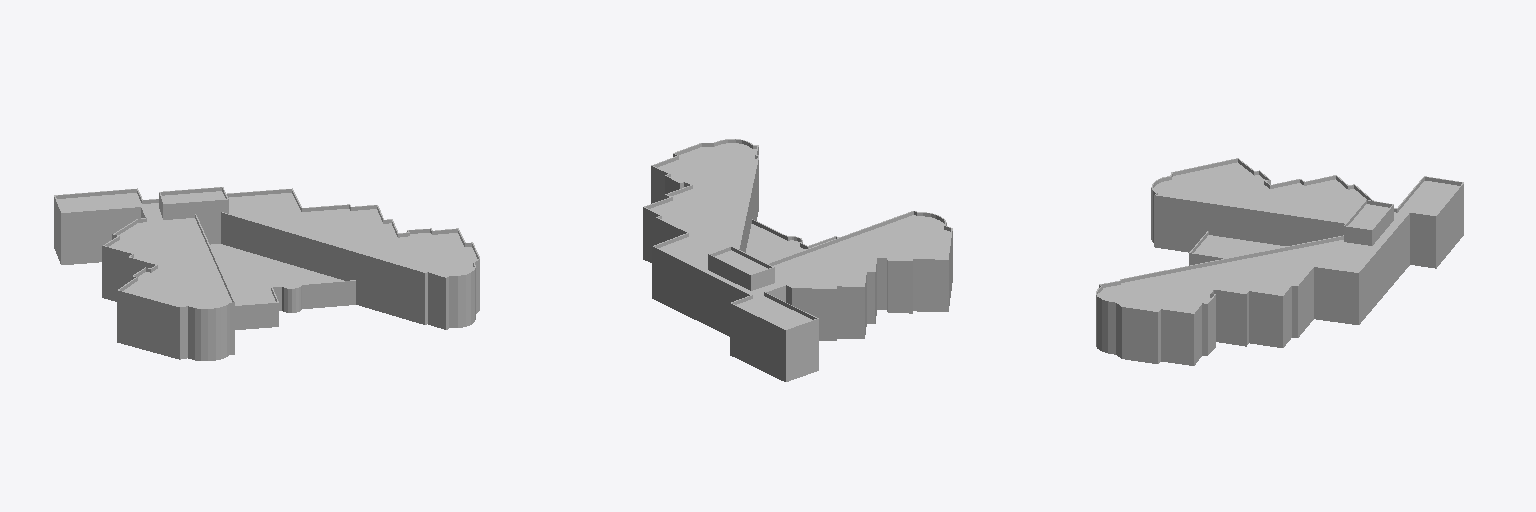
File: hospital_8.obj
The picture shows the model from 3 angles: view 1: azimuth 30°, elevation 25°; view 2: azimuth 150°, elevation 25°; view 3: azimuth 270°, elevation 25°; orthographic projection.
Parts seen in each view (by area): view 1: object_1; view 2: object_1; view 3: object_1.
Part boxes in pixels (left/top/right/bottom): object_1: left=54, top=187, right=479, bottom=360; object_1: left=643, top=139, right=952, bottom=381; object_1: left=1096, top=158, right=1463, bottom=365.
Bounding box in the file's own units: 275 × 53 × 275.